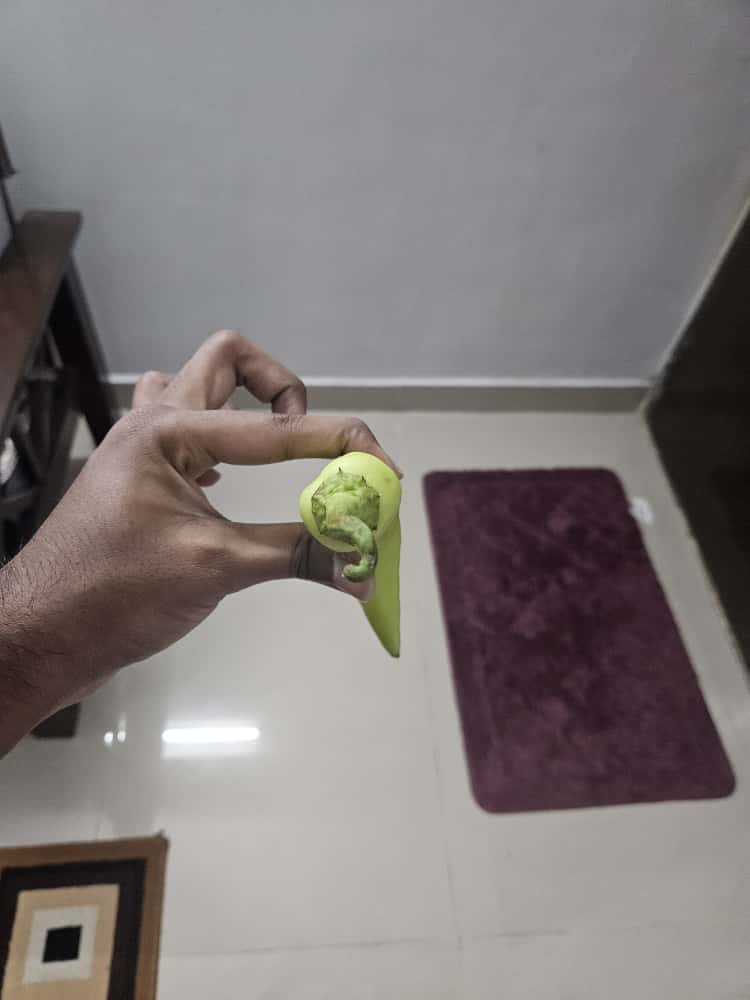wet: (300, 448, 445, 671)
